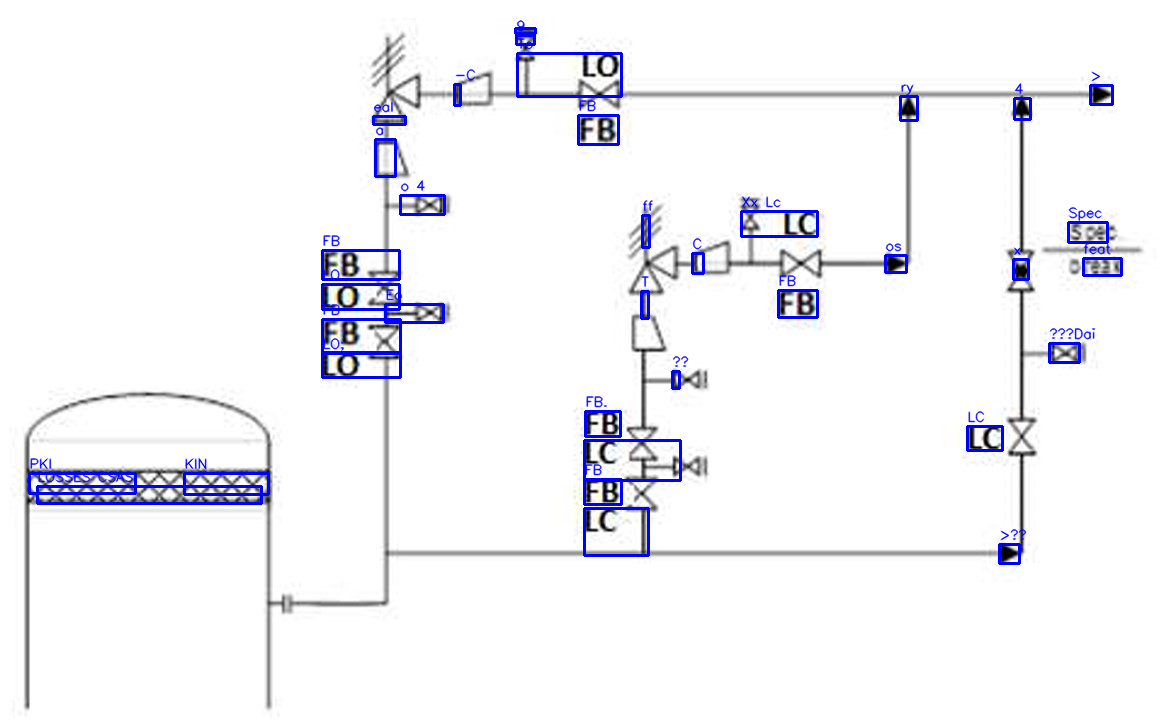Tanque: (17, 379, 276, 720)
Válvula: (361, 26, 430, 126), (619, 193, 683, 300), (999, 241, 1044, 299), (571, 75, 625, 112), (1003, 410, 1041, 462), (775, 245, 828, 280), (366, 262, 403, 311), (622, 471, 661, 515), (364, 321, 403, 364), (623, 421, 660, 464)
